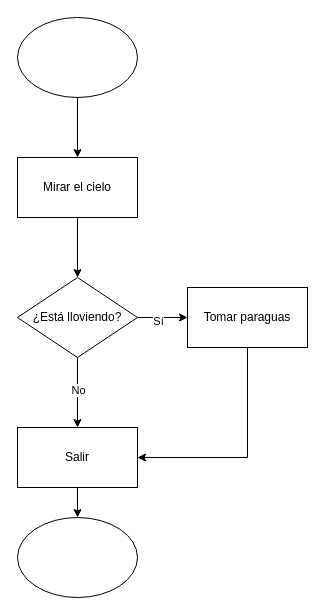
The diagram is 325 pixels wide and 615 high, and some of its shapes have lost their labels. The shapes that lost their labels are listed below. From the top down, each one's centre as x and y in pixels, then its label:
At point (77, 57): "INICIO".
At point (77, 557): "FIN".
